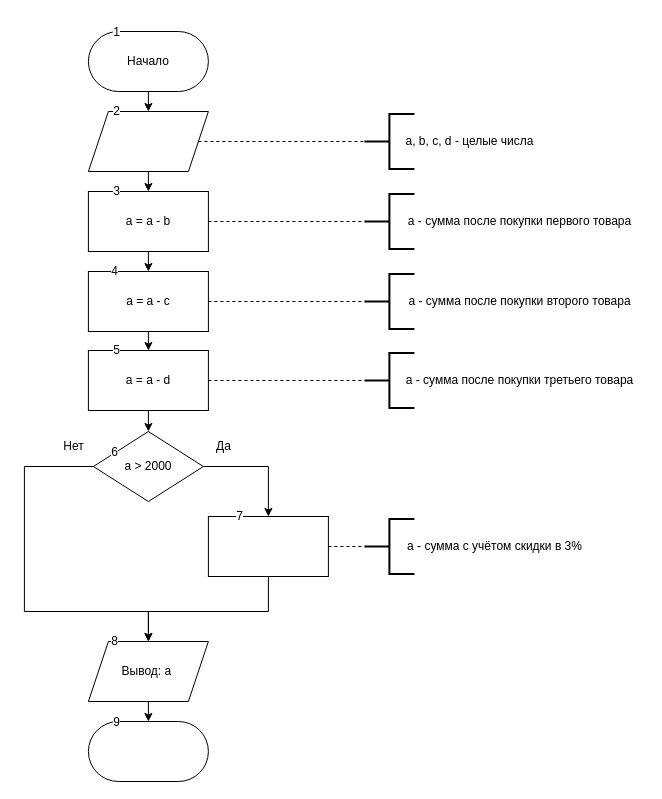
The diagram is 662 pixels wide and 799 high, and some of its shapes have lost their labels. Here are the shapes that lost their labels. From the top down, the box of each, then its label:
(87, 110, 208, 172): Ввод: a, b, c, d
(207, 516, 328, 576): a = a - (a * 0,03)
(87, 720, 208, 782): Конец
